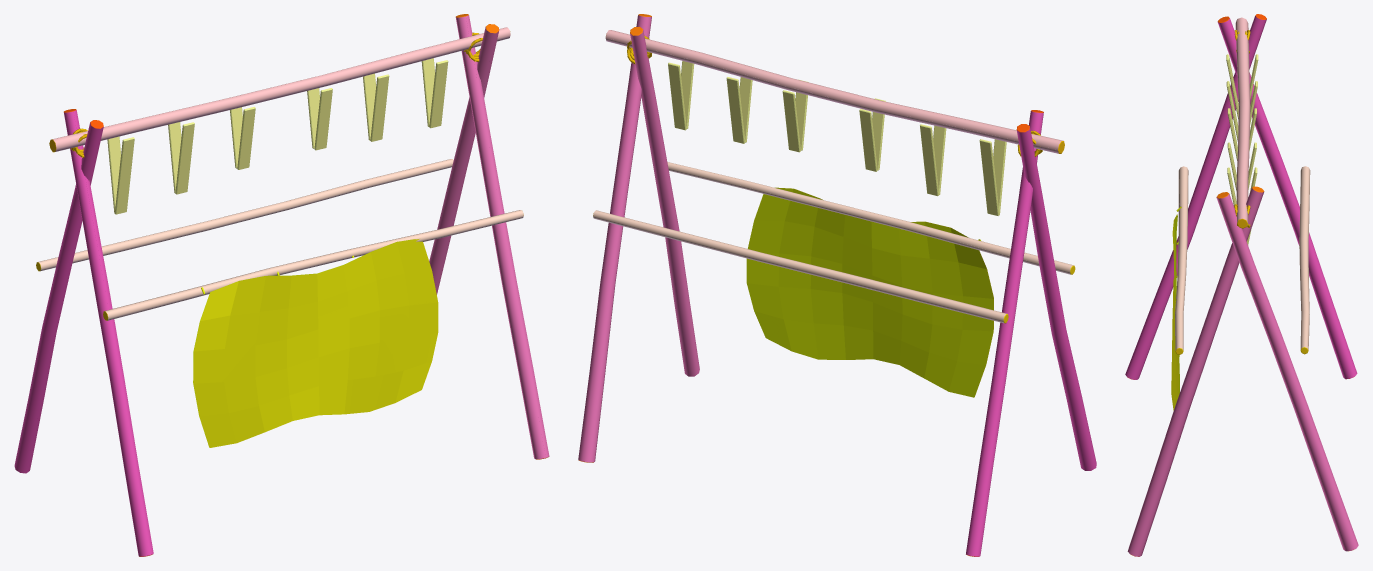
Rendered from camp_drying_rack.glb.
3 views of the same model, side by side, from view 1: azimuth 30°, elevation 25°; view 2: azimuth 150°, elevation 25°; view 3: azimuth 270°, elevation 25° (orthographic). The views are drawn at different scales.
Visible parts, largest first — view 1: Hide0, Model, Meat0, Meat1, Meat5, Meat4, Meat2, Meat3; view 2: Model, Hide0, Meat0, Meat1, Meat5, Meat4, Meat2, Meat3; view 3: Model, Hide0, Meat0, Meat1, Meat3, Meat2.
Boxes of the visible parts, x1=… form: Hide0: x1=193, y1=239, x2=438, y2=447; Model: x1=14, y1=14, x2=549, y2=556; Meat0: x1=107, y1=136, x2=134, y2=214; Meat1: x1=168, y1=122, x2=194, y2=194; Meat5: x1=421, y1=58, x2=448, y2=128; Meat4: x1=363, y1=73, x2=389, y2=141; Meat2: x1=230, y1=106, x2=255, y2=169; Meat3: x1=307, y1=88, x2=332, y2=150; Model: x1=578, y1=14, x2=1096, y2=556; Hide0: x1=746, y1=187, x2=993, y2=397; Meat0: x1=979, y1=139, x2=1006, y2=215; Meat1: x1=920, y1=124, x2=946, y2=196; Meat5: x1=668, y1=61, x2=694, y2=130; Meat4: x1=726, y1=77, x2=752, y2=143; Meat2: x1=859, y1=98, x2=885, y2=171; Meat3: x1=782, y1=79, x2=808, y2=152; Model: x1=1125, y1=14, x2=1358, y2=556; Hide0: x1=1171, y1=206, x2=1181, y2=410; Meat0: x1=1226, y1=54, x2=1258, y2=120; Meat1: x1=1226, y1=81, x2=1257, y2=141; Meat3: x1=1227, y1=142, x2=1256, y2=190; Meat2: x1=1227, y1=108, x2=1256, y2=160.
Size of the model in its own units: 2.2 by 1.85 by 1.08.
